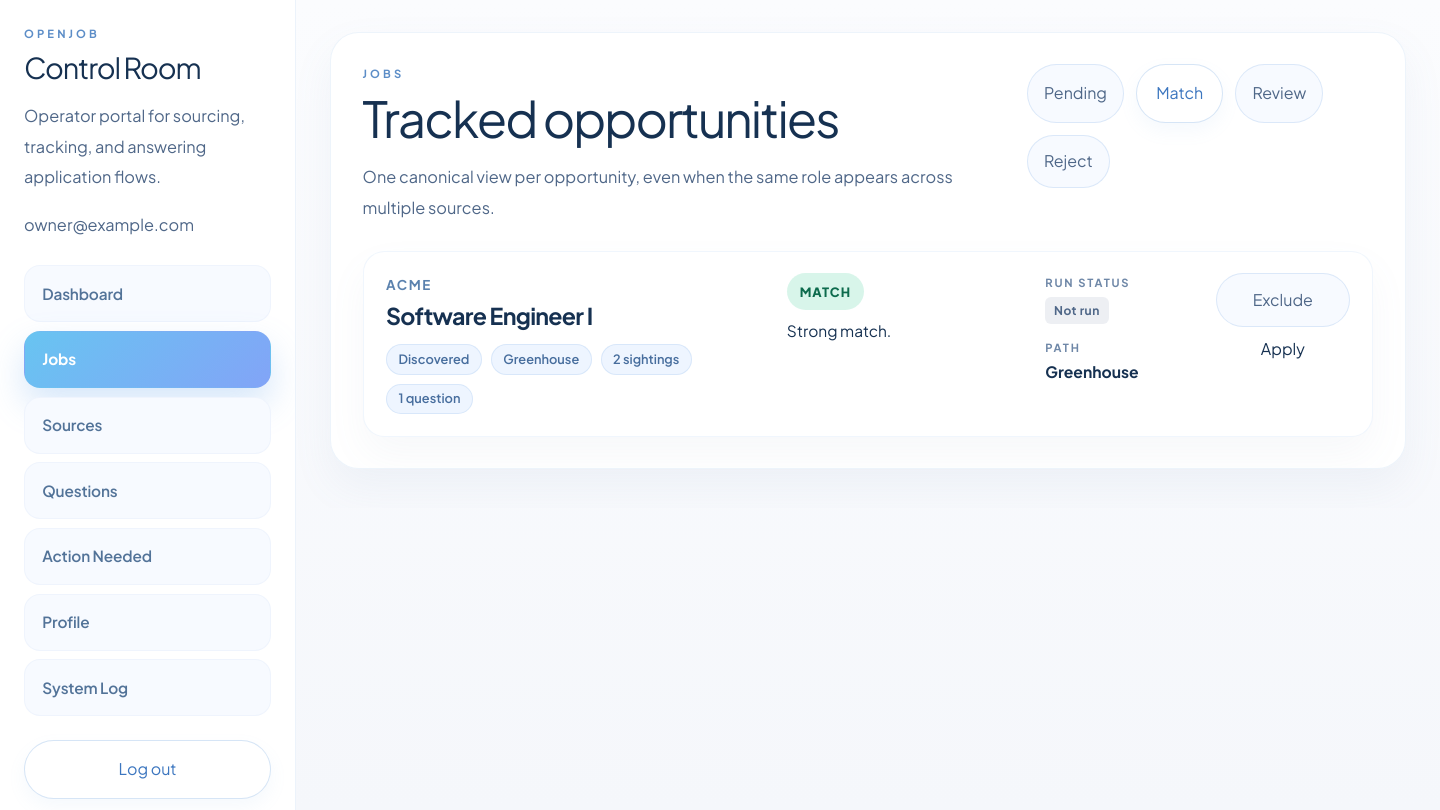
updates job relevance from the jobs screen
What coordinates should you click on to do the following:
click the button "Exclude"
I would click on:
 (1283, 300)
Its box is [1216,273,1350,327].
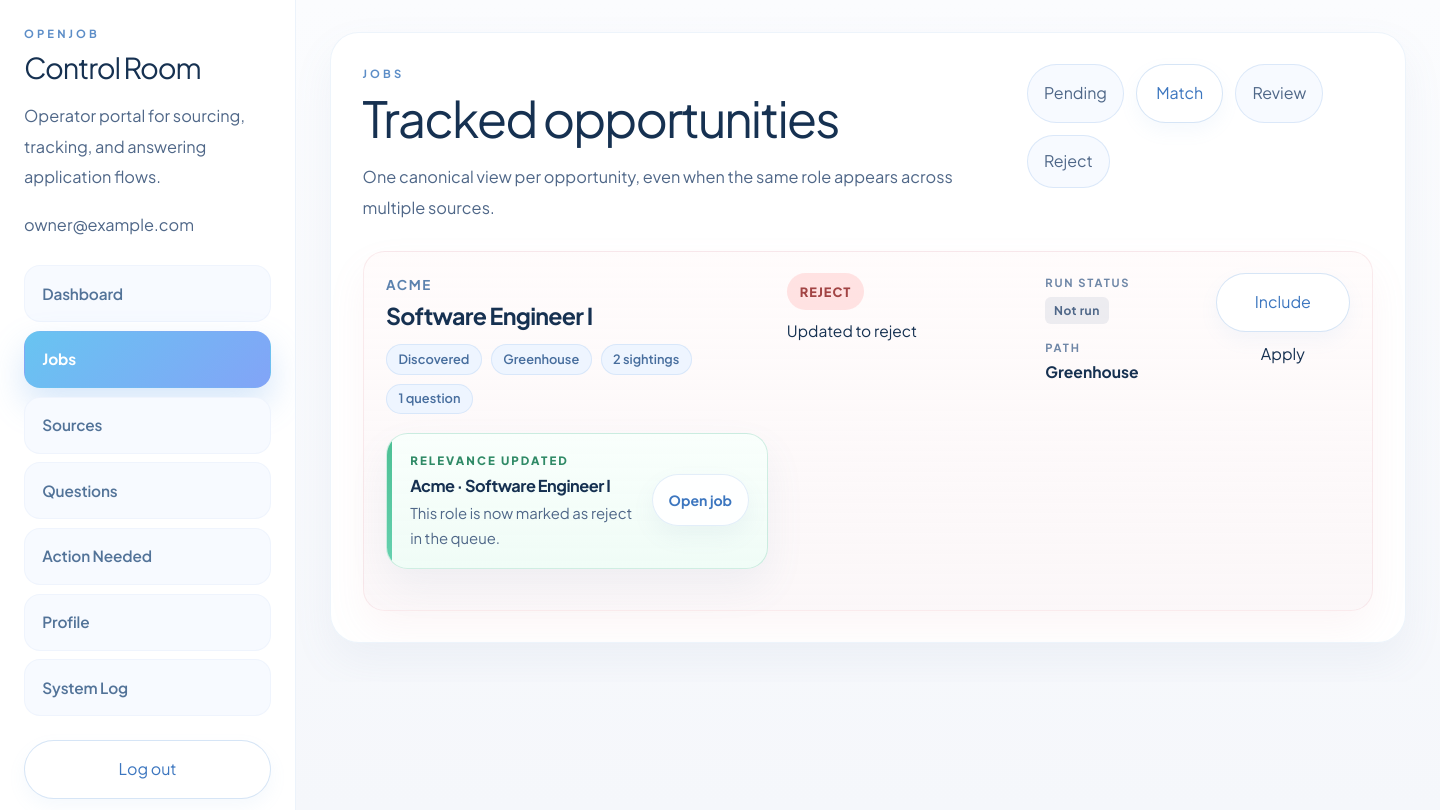
Now the text "This role is now marked as reject in the queue." is shown, box [410,501,636,550]
